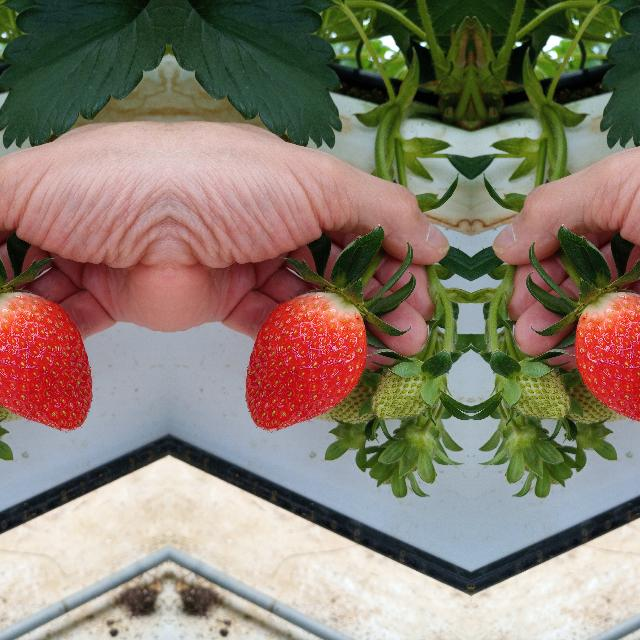Health_100: (244, 292, 366, 432), (0, 291, 92, 432), (574, 291, 640, 432)
Health_25: (494, 342, 566, 428), (376, 342, 446, 428)
